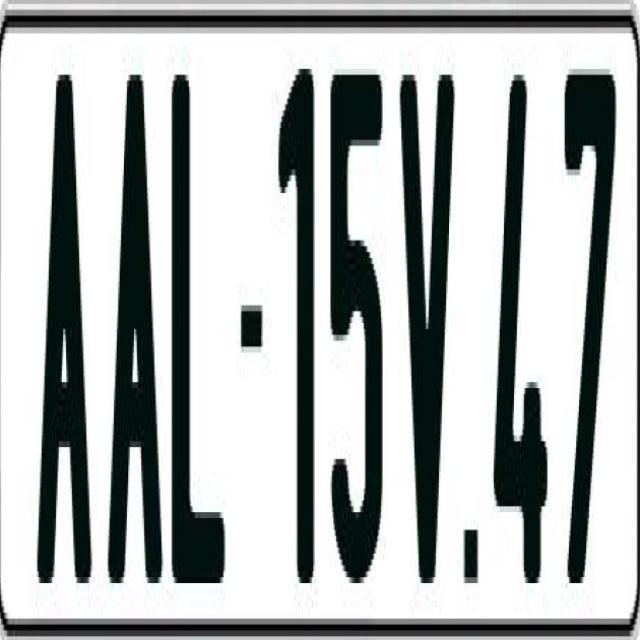license-plate: (6, 0, 638, 633)
